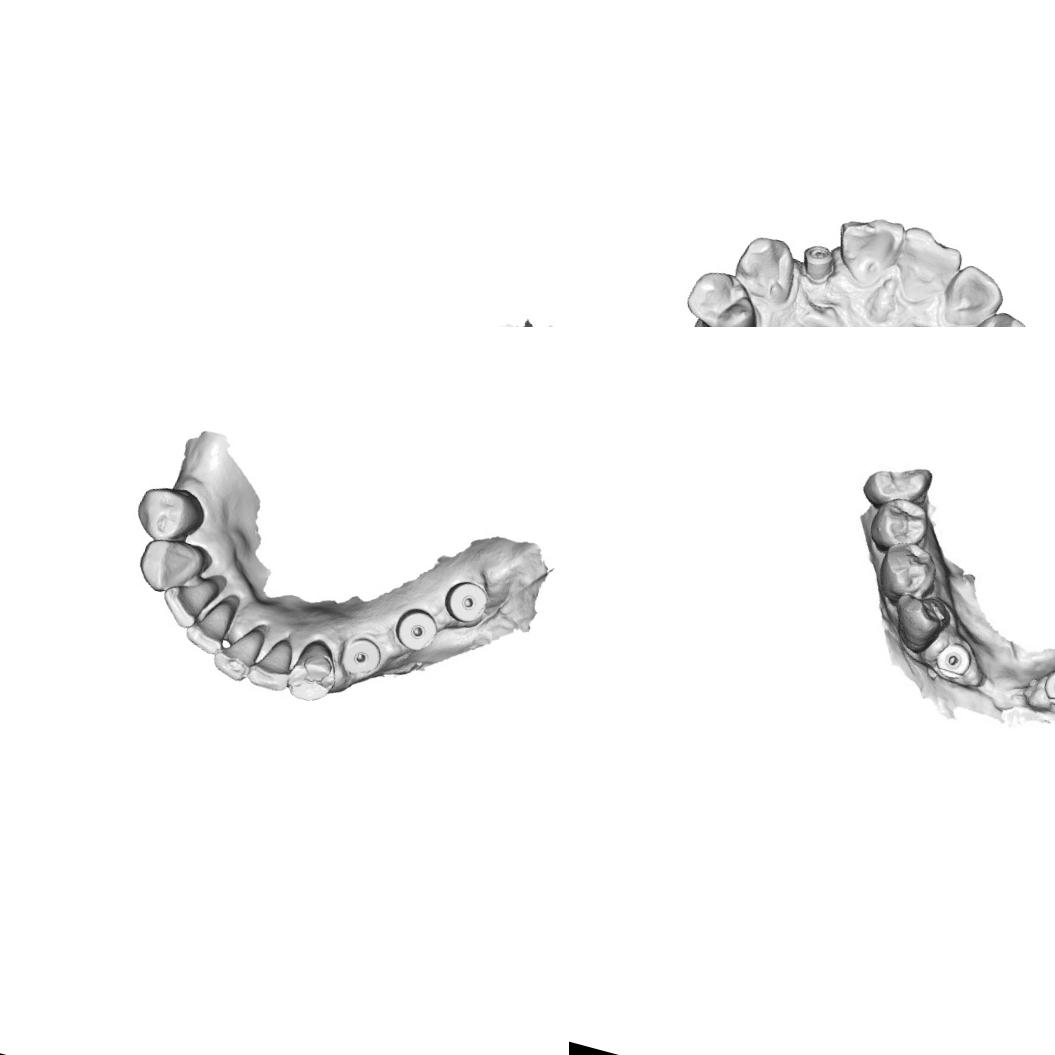canine: (128, 532, 212, 604), (727, 227, 802, 306), (279, 632, 344, 710), (887, 586, 951, 654), (957, 302, 1040, 327)
implant: (437, 572, 495, 631), (389, 600, 445, 659), (334, 626, 388, 684), (795, 237, 839, 285), (934, 642, 972, 680), (1038, 667, 1055, 710)
incisor: (884, 220, 970, 314), (825, 205, 910, 292), (937, 258, 1009, 327), (178, 586, 242, 663), (243, 623, 305, 699), (154, 568, 218, 636), (202, 620, 264, 687)
premolar: (128, 475, 212, 552), (676, 260, 771, 327), (870, 537, 943, 608), (862, 488, 932, 558)
